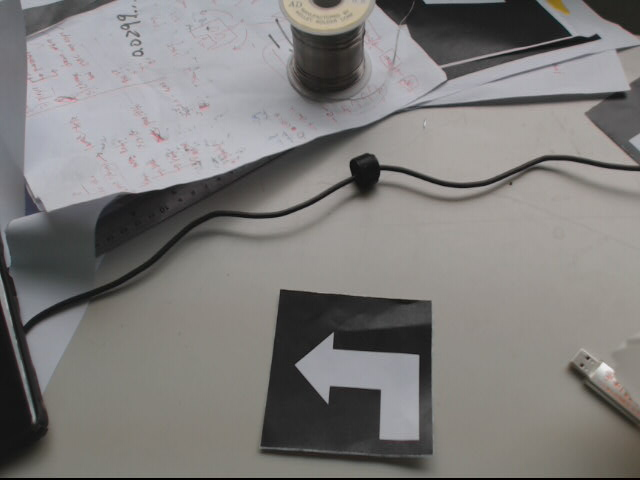left: (261, 290, 436, 458)
